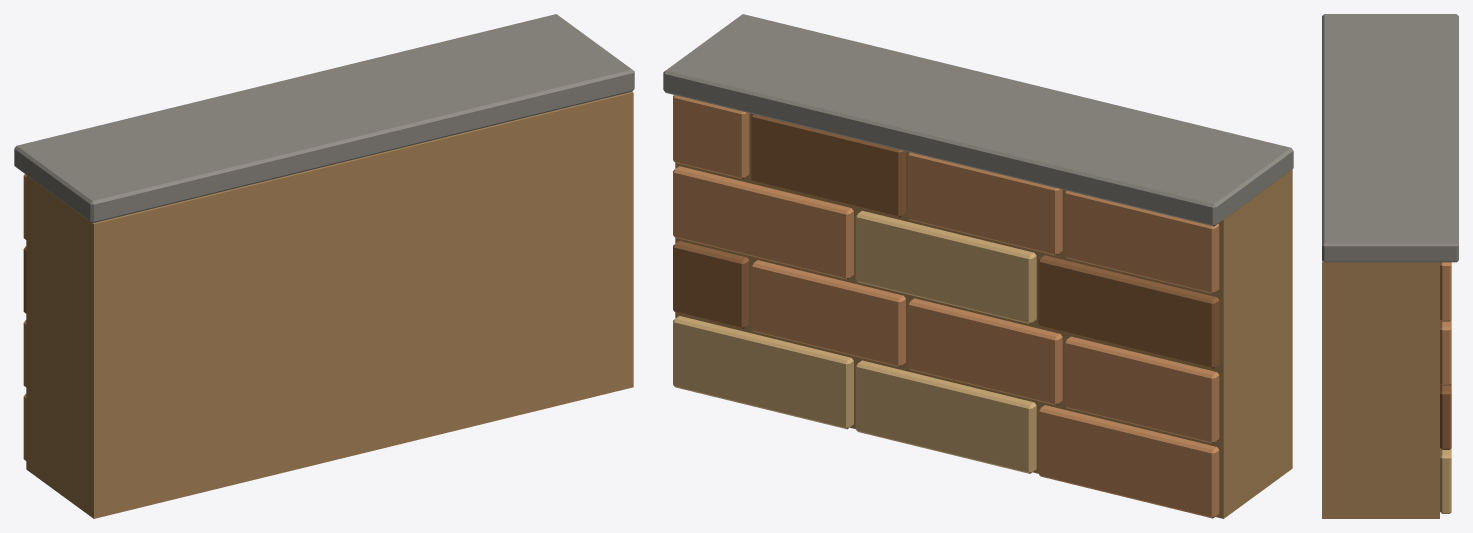
The model's file is SM_ProvWall_4m.fbx.
3 views of the same model, side by side, from view 1: azimuth 30°, elevation 25°; view 2: azimuth 150°, elevation 25°; view 3: azimuth 270°, elevation 25° (orthographic). The views are drawn at different scales.
Visible parts, largest first — view 1: SM_ProvWall_4m; view 2: SM_ProvWall_4m; view 3: SM_ProvWall_4m.
Boxes of the visible parts, x1=… form: SM_ProvWall_4m: x1=14, y1=14, x2=634, y2=518; SM_ProvWall_4m: x1=663, y1=14, x2=1293, y2=518; SM_ProvWall_4m: x1=1322, y1=14, x2=1458, y2=518.
Size of the model in its own units: 4.64 by 1.16 by 2.58.
